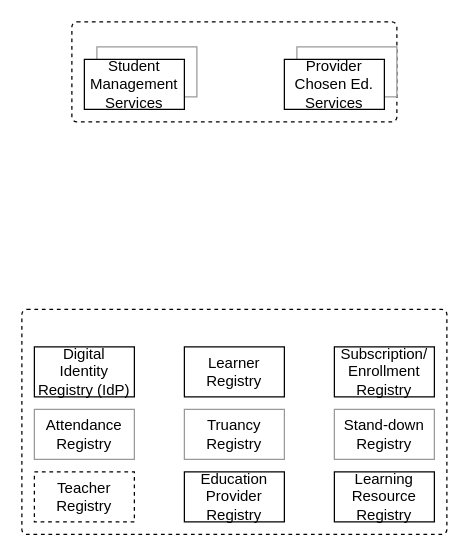
Some shapes in this 469 by 556 pixel diagram are drawn without their labels. Each missing label, with the box of its shape:
Education Provider Services: (71, 21, 397, 122)
Sector Services: (21, 308, 447, 534)
